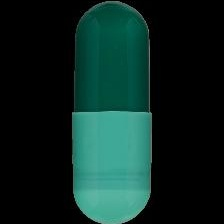42291-237: (0, 0, 224, 224)
